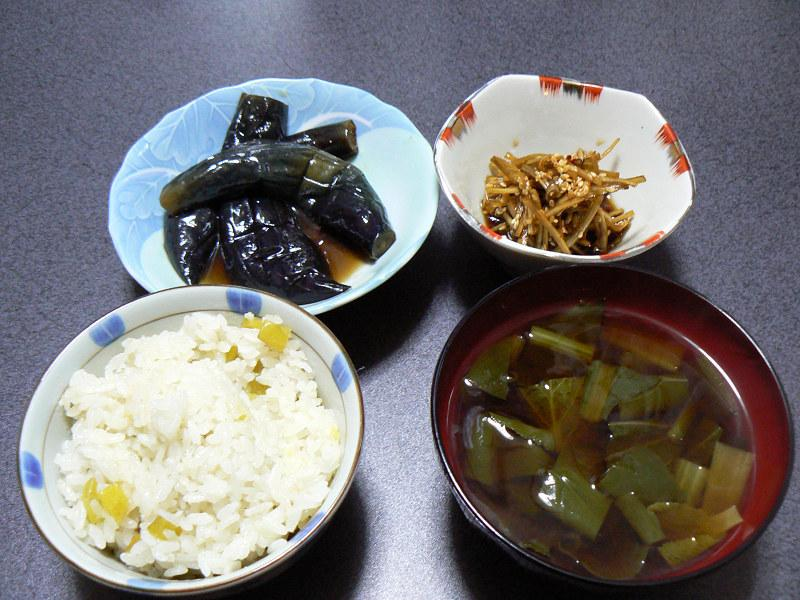rice: (55, 314, 342, 578)
